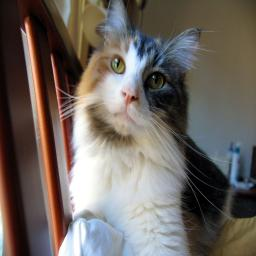catnose: (121, 84, 140, 105)
